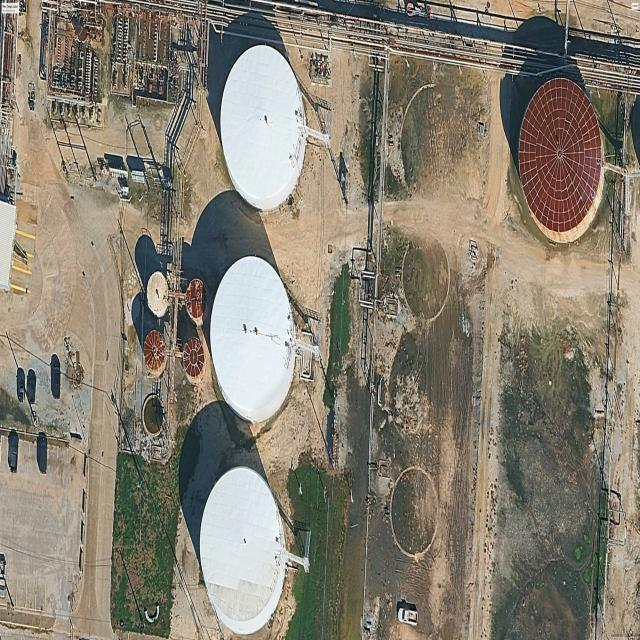Oil Rafinery: (199, 467, 308, 634), (220, 45, 329, 211), (210, 256, 296, 422), (518, 78, 603, 243)
